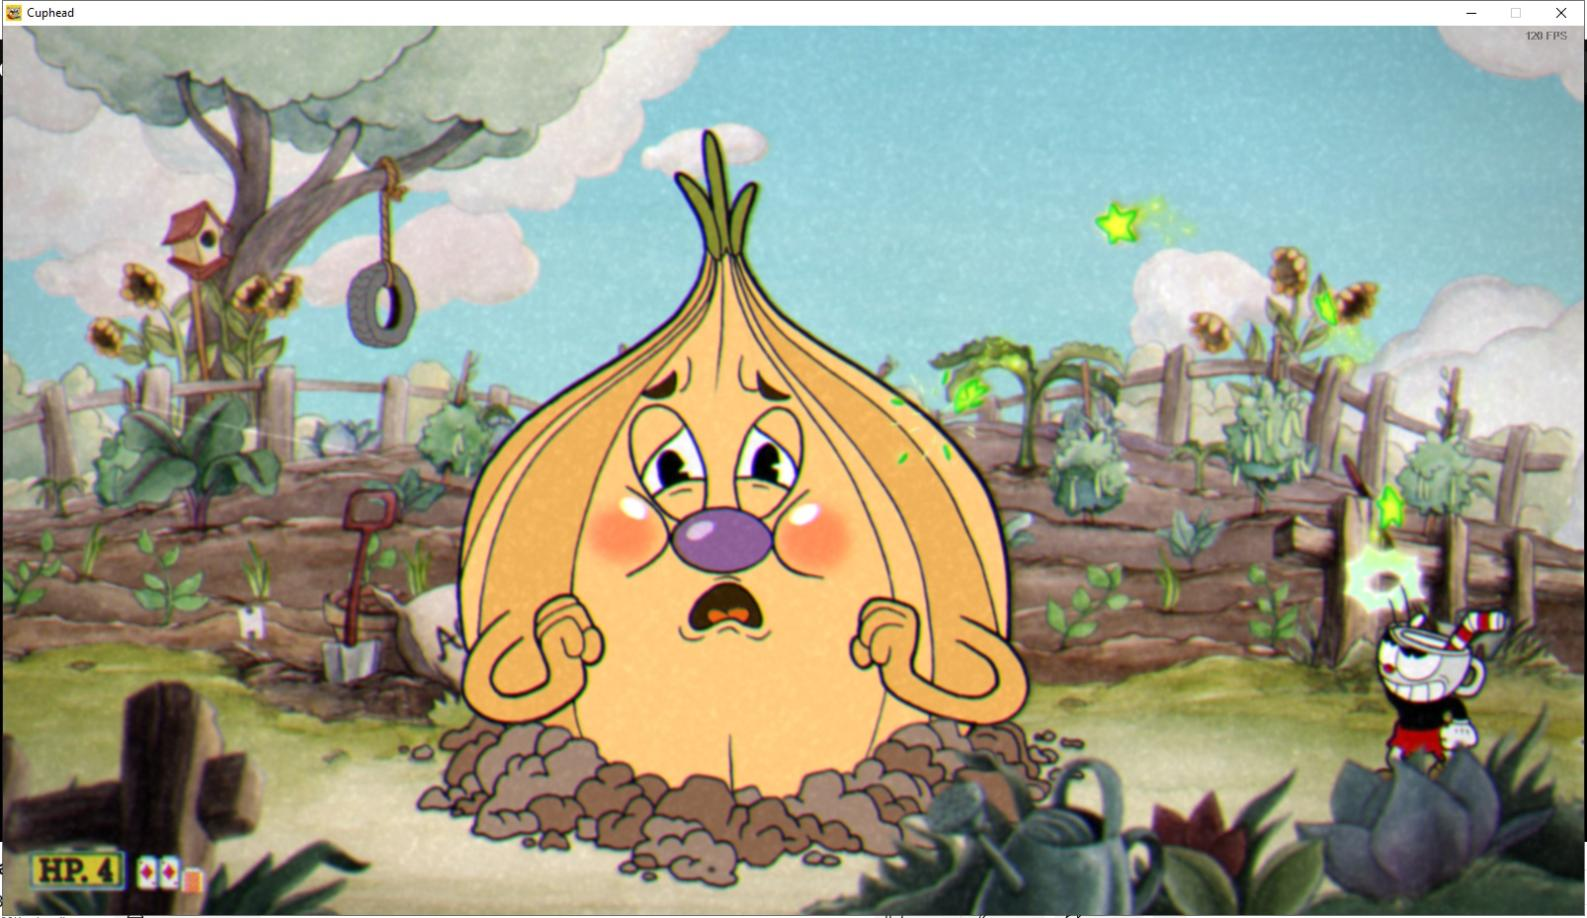hp4: (93, 852, 124, 891)
onion_boss: (442, 150, 1021, 809)
player: (1349, 580, 1501, 784)
